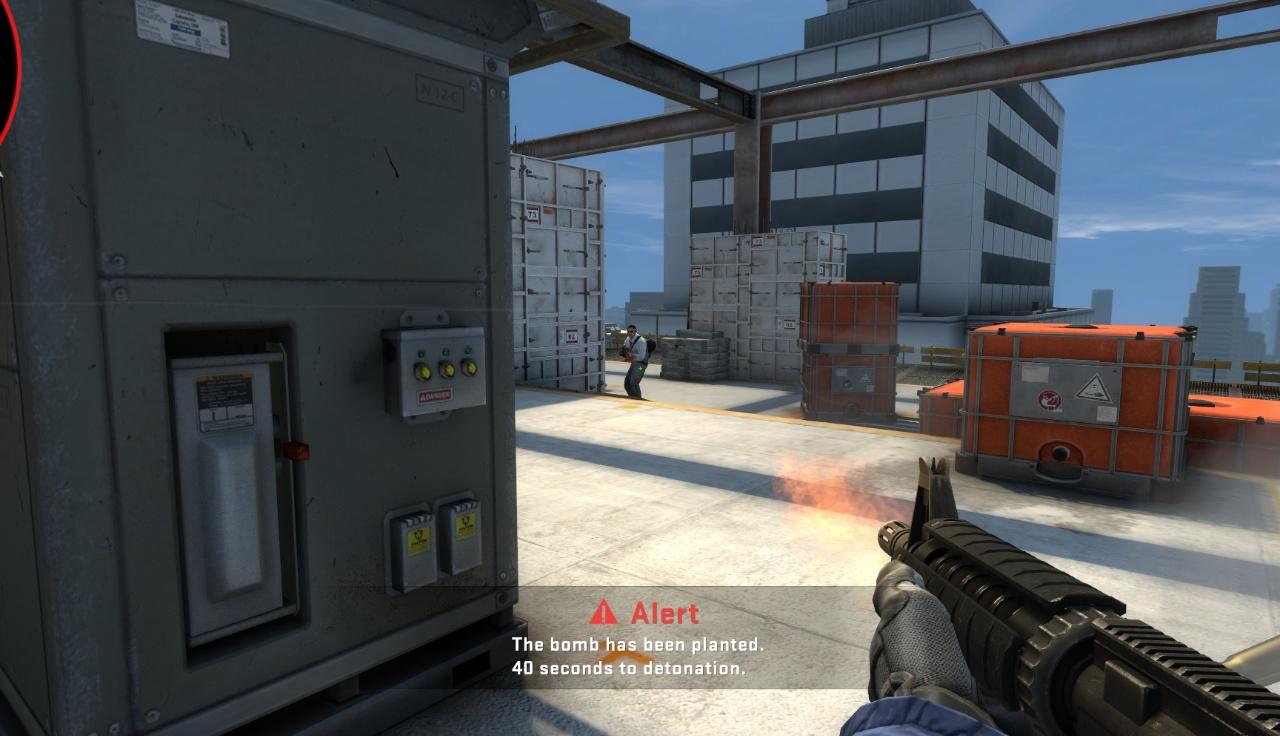rifle: (861, 463, 1280, 734)
tt: (623, 322, 652, 399)
tthead: (627, 325, 636, 337)
